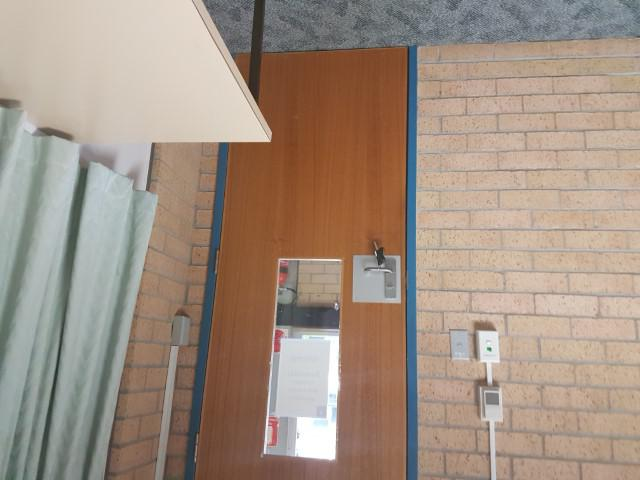key: (370, 238, 388, 266)
